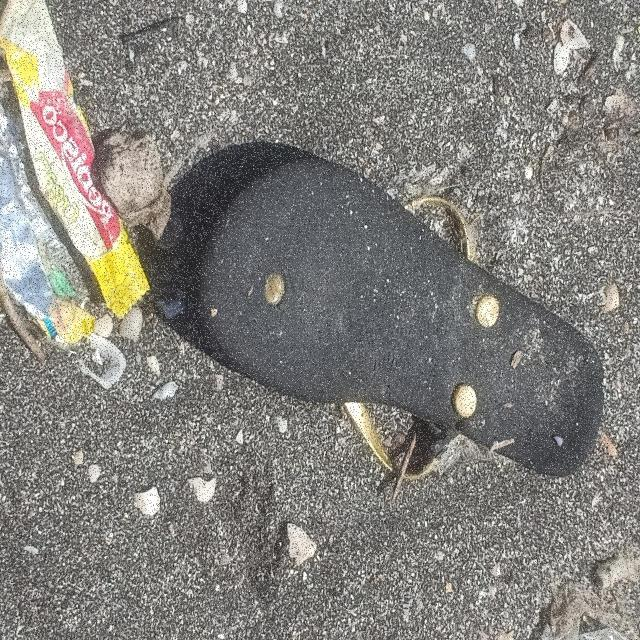plastic_waste: (1, 1, 153, 325)
rubber_waste: (192, 155, 606, 481)
